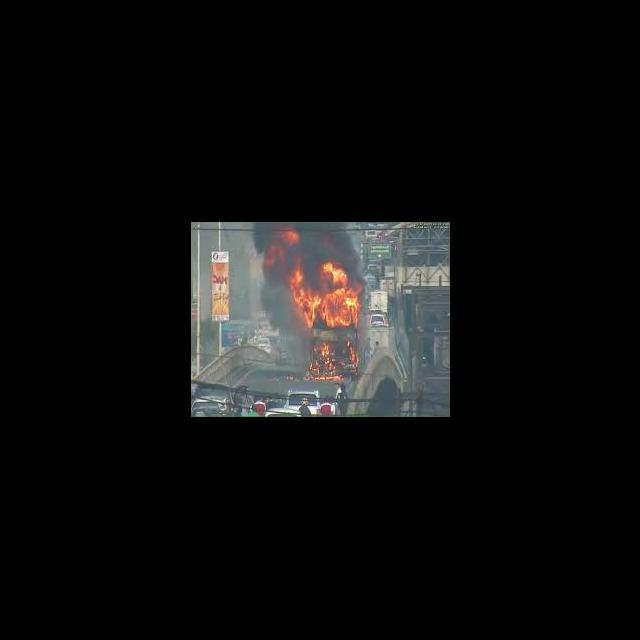Fire: (290, 262, 358, 330), (308, 340, 341, 381), (345, 339, 362, 369), (282, 229, 301, 246)
Smoke: (302, 225, 354, 260), (264, 272, 288, 322)
